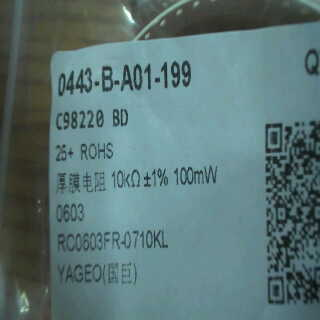10kR: (107, 163, 144, 193)
